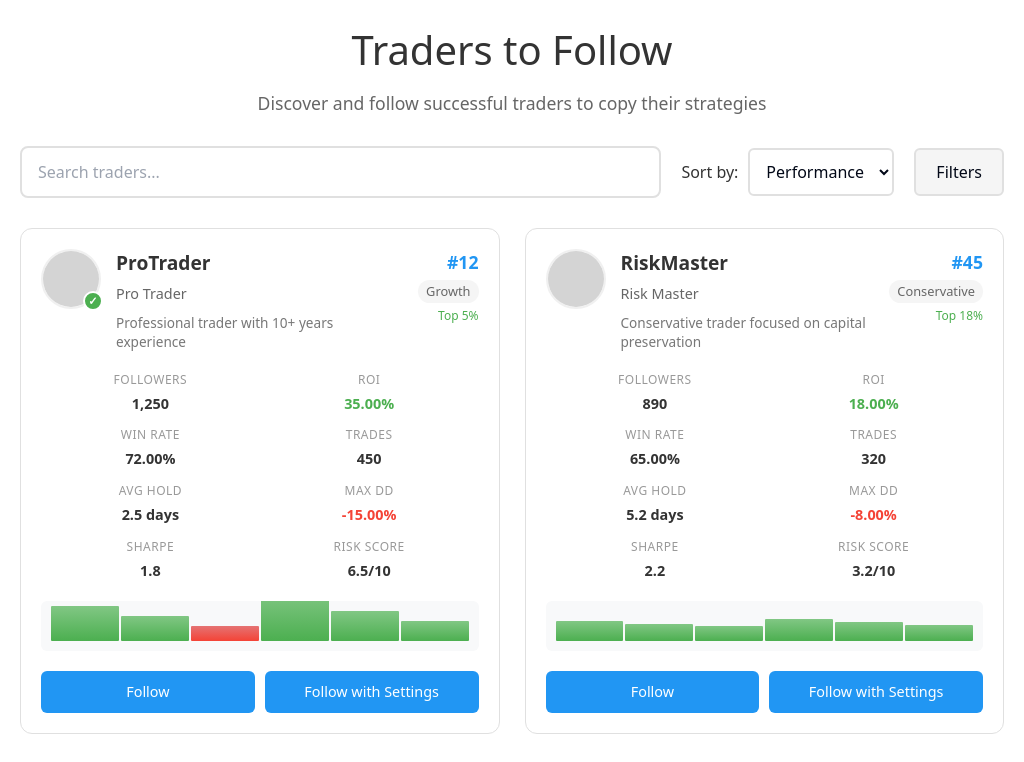
Scenario: TradersToFollow › Error Handling › should handle follow trader errors
Expected: the heading "ProTrader" is shown, [116,249,210,276]
Click the 1st button "Follow": {"x": 148, "y": 692} [41,671,255,713]
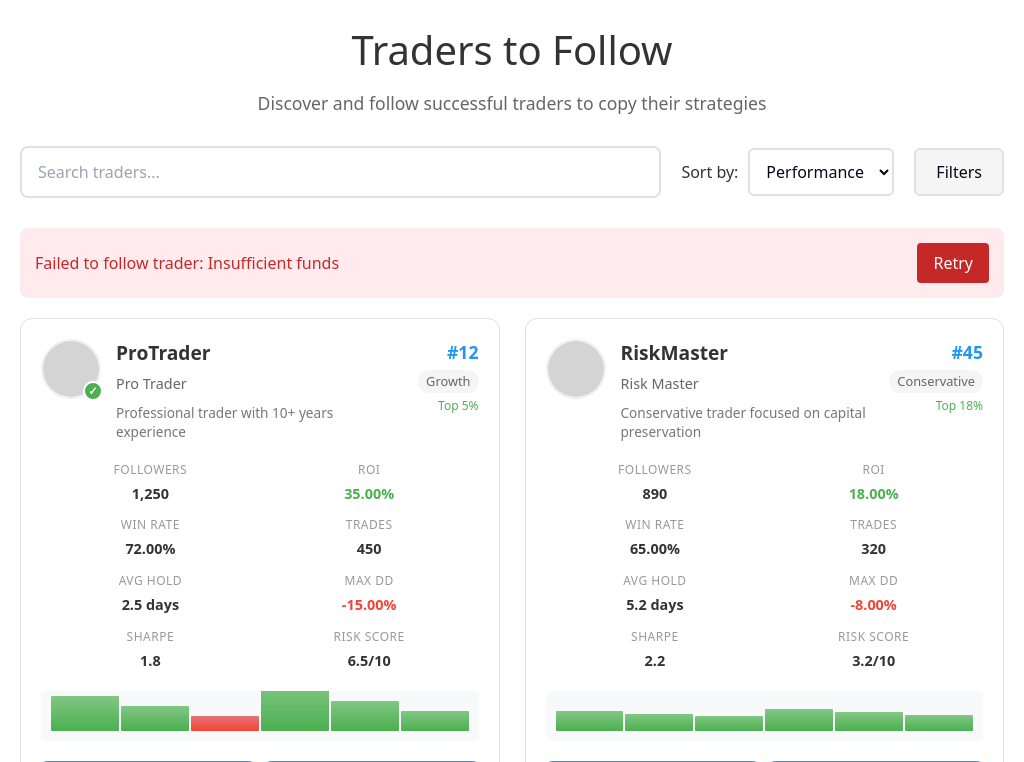
Now the text "Failed to follow trader: Insufficient funds" is shown, box [35,252,339,274]
